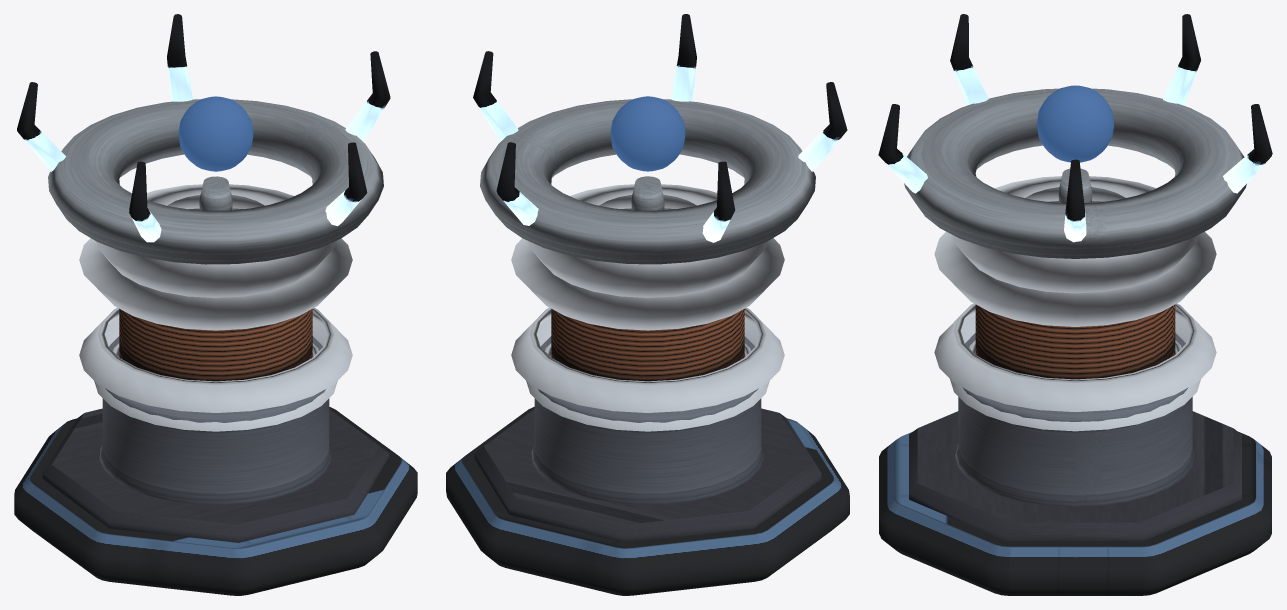
The model's file is focus.glb.
The picture shows the model from 3 angles, left to right: view 1: azimuth 30°, elevation 25°; view 2: azimuth 150°, elevation 25°; view 3: azimuth 270°, elevation 25°; orthographic projection. The views are drawn at different scales.
Visible parts, largest first — view 1: FocusHull; view 2: FocusHull; view 3: FocusHull.
Part boxes in pixels (left/top/right/bottom): FocusHull: left=14, top=14, right=417, bottom=595; FocusHull: left=446, top=14, right=849, bottom=595; FocusHull: left=878, top=14, right=1272, bottom=595.
Bounding box in the file's own units: 0.3715 × 0.4467 × 0.3632.
Materials: 1 (1 with a texture image).
